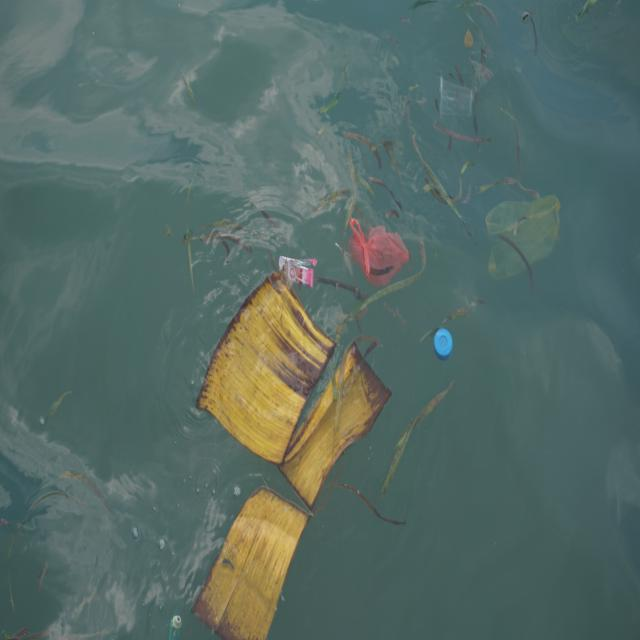Bungkus Makanan: (277, 251, 319, 290)
Bungkus Minuman: (438, 75, 475, 124)
Kantong Plastik: (485, 194, 562, 282), (346, 214, 409, 291)
